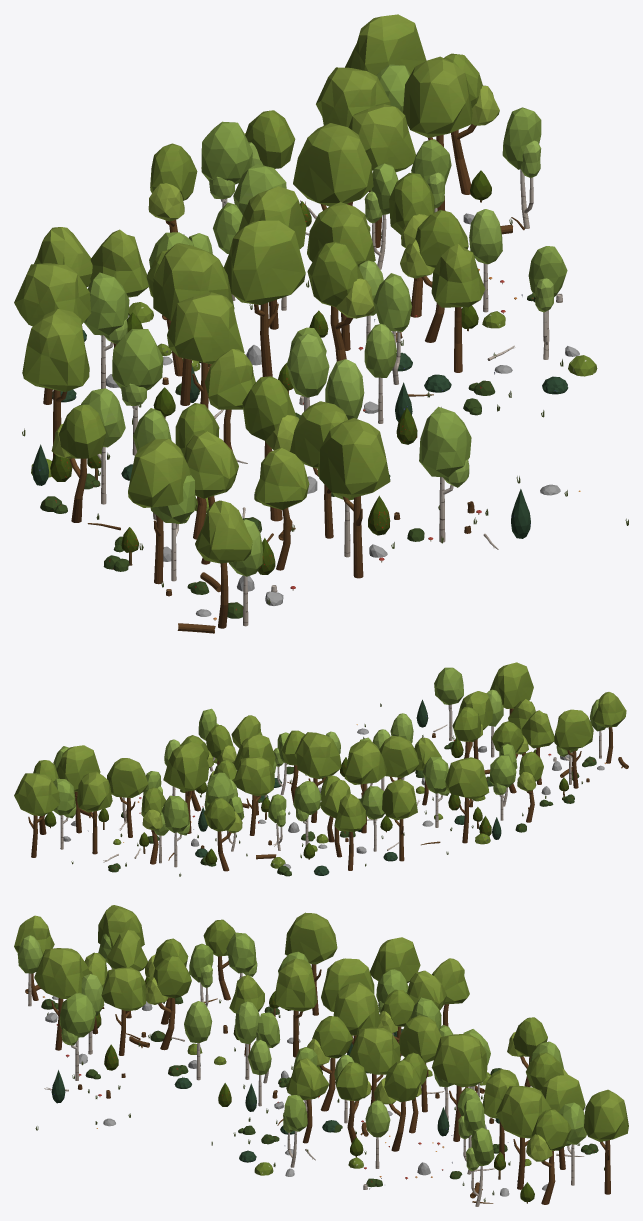
Rendered from Foliage2.gltf.
3 renders of one model, top to bottom at view 1: azimuth 30°, elevation 25°; view 2: azimuth 150°, elevation 25°; view 3: azimuth 270°, elevation 25°, orthographic. The views are drawn at different scales.
Visible parts, largest first — view 1: Beechtree3 - copy.036, Beechtree3 - copy.022, Beechtree3 - copy.040, Beechtree3 - copy.014, Beechtree3 - copy.035, Beechtree3 - copy.034, Beechtree3 - copy.021, Beechtree2 - copy.017, Beechtree3 - copy.029, BirchTree3 - copy.009, Beechtree3 - copy.019, Beechtree3 - copy.005 (+39 smaller); view 2: Beechtree3 - copy.040, Beechtree3 - copy.036, Beechtree3 - copy.005, Beechtree3 - copy.014, Beechtree3 - copy.021, Beechtree3 - copy.017, Beechtree3 - copy.029, Beechtree3 - copy.007, Beechtree3 - copy.022, Beechtree3 - copy.035, Beechtree3 - copy.019, Beechtree3 - copy.010 (+34 smaller); view 3: Beechtree3 - copy.040, Beechtree3 - copy.022, Beechtree3 - copy.035, Beechtree3 - copy.005, Beechtree3 - copy.014, Beechtree3 - copy.034, Beechtree2 - copy.008, Beechtree3 - copy.031, Beechtree2 - copy.005, Beechtree3 - copy.009, Beechtree2 - copy.017, Beechtree2 - copy.029 (+37 smaller).
Boxes of the visible parts, x1,y1,x2,y2 form: Beechtree3 - copy.036: [223, 220, 305, 376]; Beechtree3 - copy.022: [317, 418, 390, 578]; Beechtree3 - copy.040: [293, 123, 373, 210]; Beechtree3 - copy.014: [22, 309, 89, 457]; Beechtree3 - copy.035: [403, 56, 472, 210]; Beechtree3 - copy.034: [167, 292, 244, 408]; Beechtree3 - copy.021: [153, 243, 234, 405]; Beechtree2 - copy.017: [307, 241, 374, 361]; Beechtree3 - copy.029: [128, 438, 195, 584]; BirchTree3 - copy.009: [419, 406, 471, 542]; Beechtree3 - copy.019: [14, 263, 91, 404]; Beechtree3 - copy.005: [345, 14, 426, 75]; Beechtree3 - copy.040: [163, 742, 208, 833]; Beechtree3 - copy.036: [294, 732, 341, 822]; Beechtree3 - copy.005: [14, 773, 59, 857]; Beechtree3 - copy.014: [445, 757, 489, 843]; Beechtree3 - copy.021: [344, 740, 386, 833]; Beechtree3 - copy.017: [234, 757, 274, 835]; Beechtree3 - copy.029: [554, 709, 593, 788]; Beechtree3 - copy.007: [107, 758, 148, 837]; Beechtree3 - copy.022: [490, 662, 533, 714]; Beechtree3 - copy.035: [56, 745, 100, 833]; Beechtree3 - copy.019: [382, 779, 417, 861]; Beechtree3 - copy.010: [77, 771, 112, 854]; Beechtree3 - copy.040: [431, 1033, 487, 1141]; Beechtree3 - copy.022: [34, 948, 88, 1050]; Beechtree3 - copy.035: [496, 1086, 551, 1189]; Beechtree3 - copy.005: [584, 1089, 628, 1194]; Beechtree3 - copy.014: [285, 912, 337, 1015]; Beechtree3 - copy.034: [274, 958, 317, 1057]; Beechtree2 - copy.008: [145, 955, 191, 1050]; Beechtree3 - copy.031: [349, 1027, 400, 1104]; Beechtree2 - copy.005: [526, 1109, 571, 1204]; Beechtree3 - copy.009: [101, 967, 146, 1055]; Beechtree2 - copy.017: [307, 1016, 352, 1111]; Beechtree2 - copy.029: [374, 1060, 420, 1151].
Size of the model in its own units: 59.7 by 13.19 by 68.87.
Materials: 35 (35 with a texture image).
